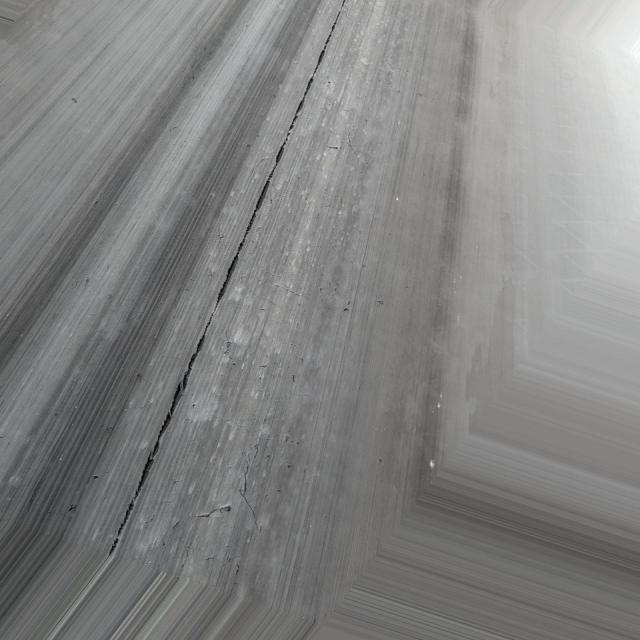Tear: (102, 10, 350, 542)
